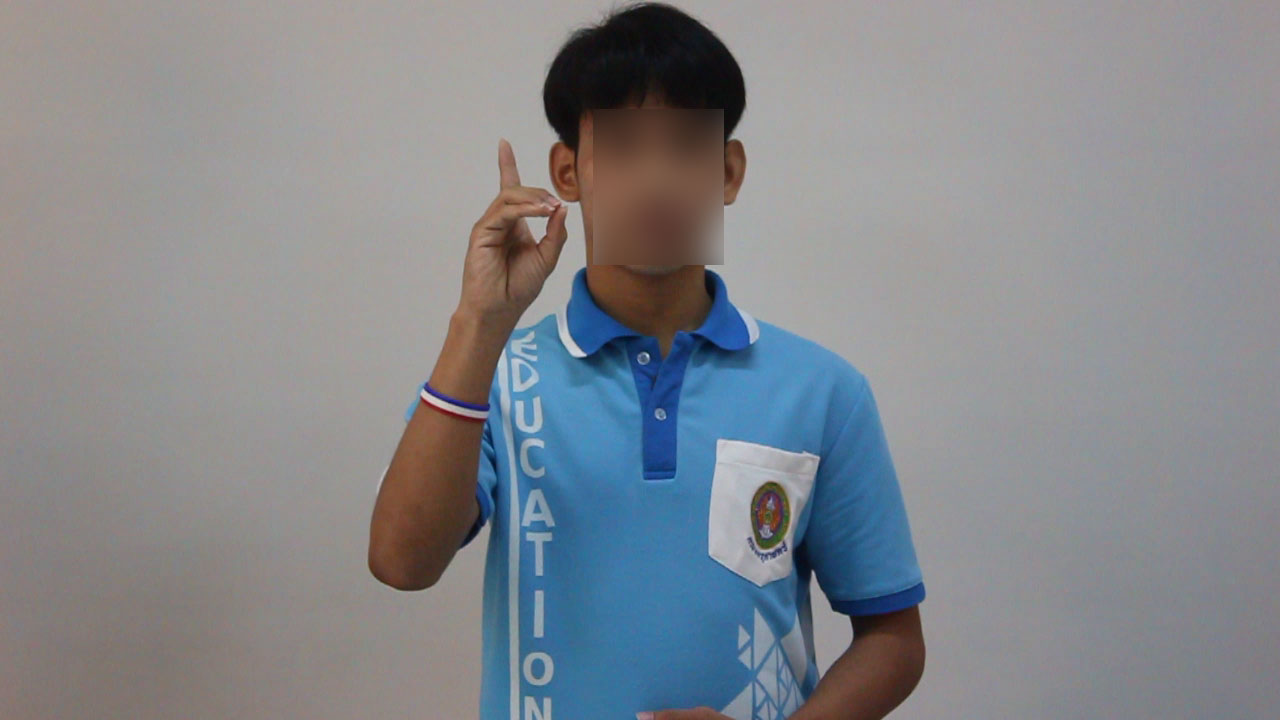dor: (443, 132, 574, 327)
